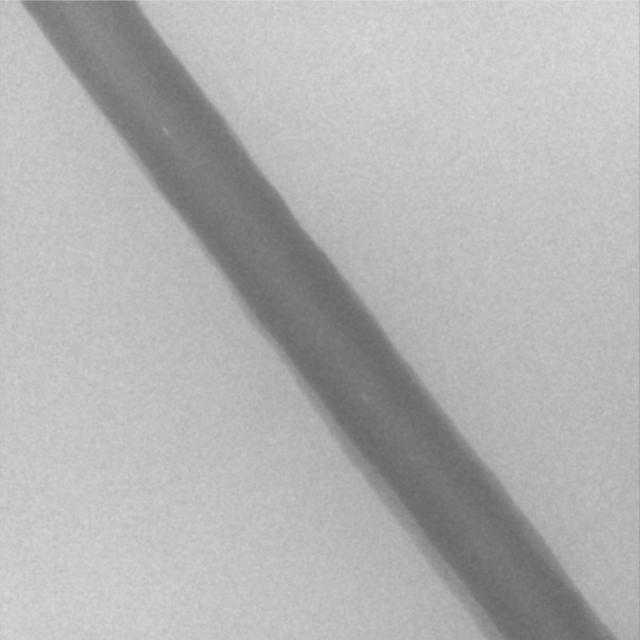air hole: (361, 392, 370, 405), (162, 126, 171, 137)
